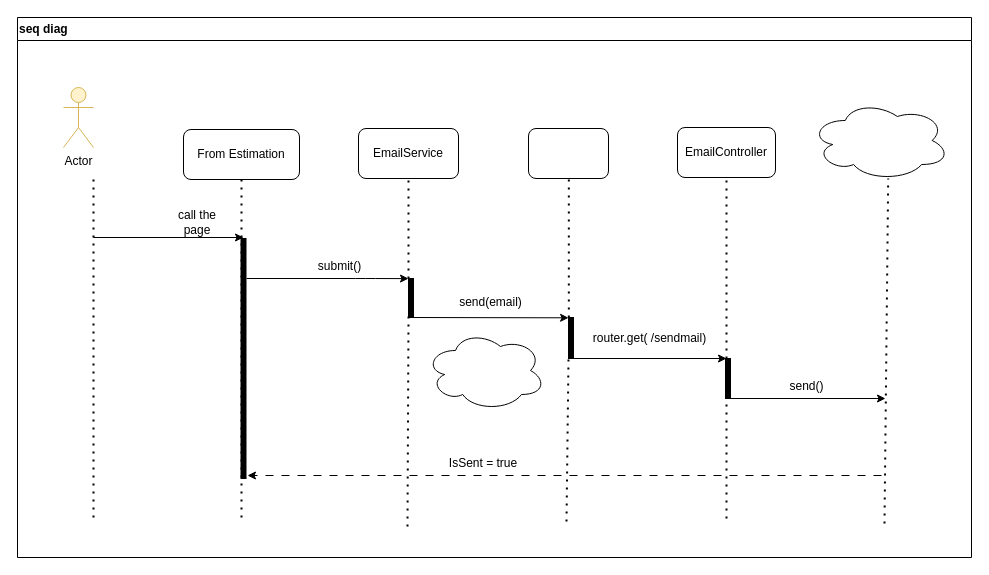
This 989x575 diagram has some shape labels left out. Each missing label, with the centre of its shape:
Back-end Router: pixel 568 153
Email transporteur (IMAP): pixel 880 140
WWW: pixel 485 370
